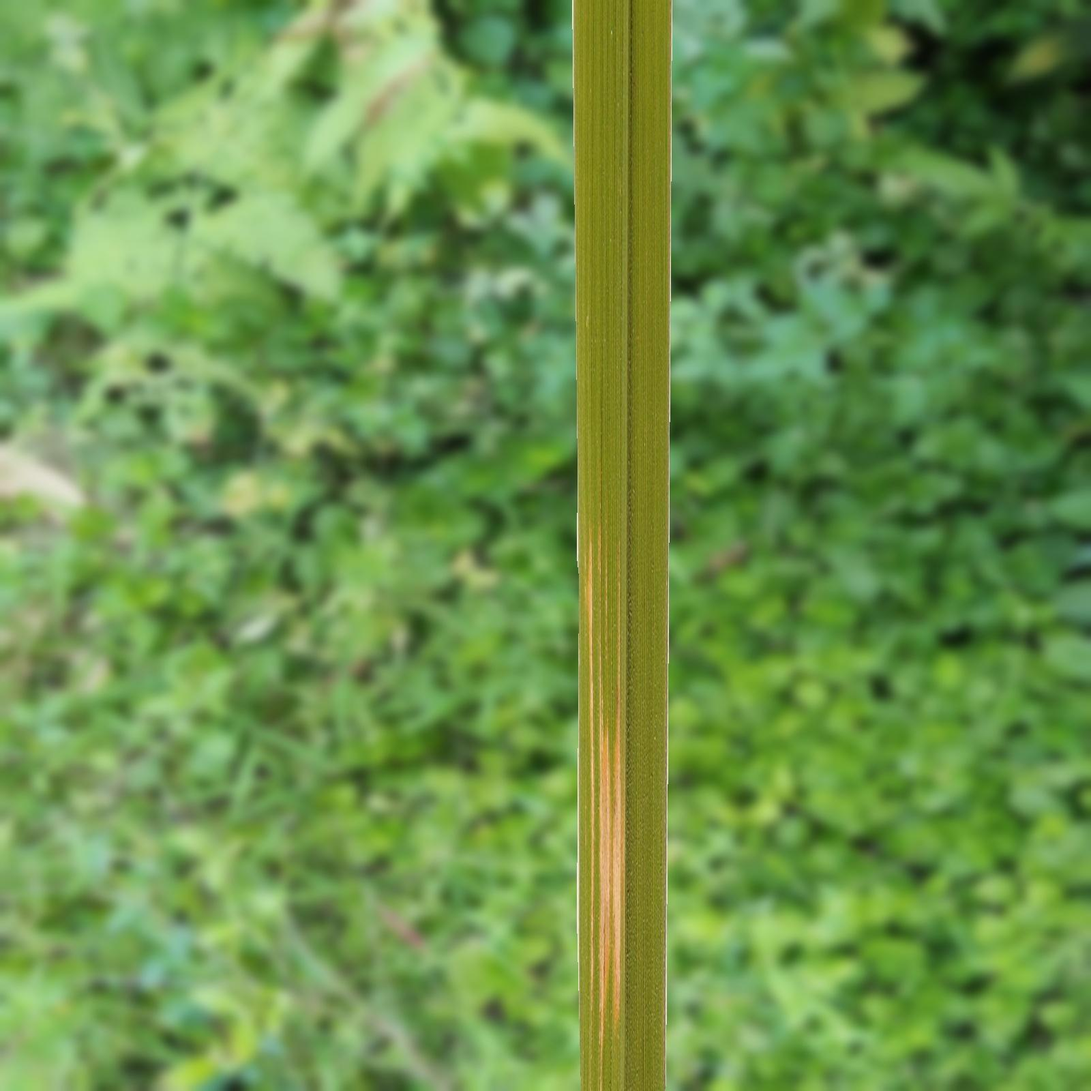BLS: (598, 501, 611, 1090), (611, 537, 625, 1052), (584, 521, 595, 1013), (605, 513, 609, 662)
LEAF: (573, 0, 672, 1090)
